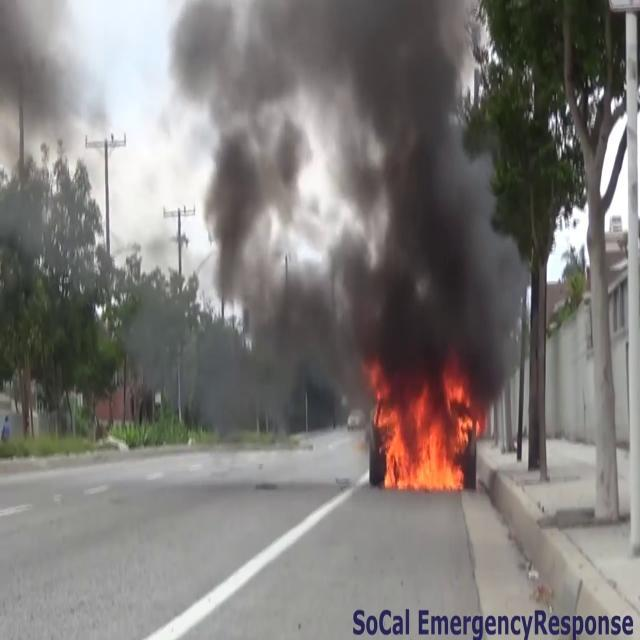Fire: (372, 372, 479, 500)
Smoke: (161, 0, 524, 400), (0, 0, 88, 241)
